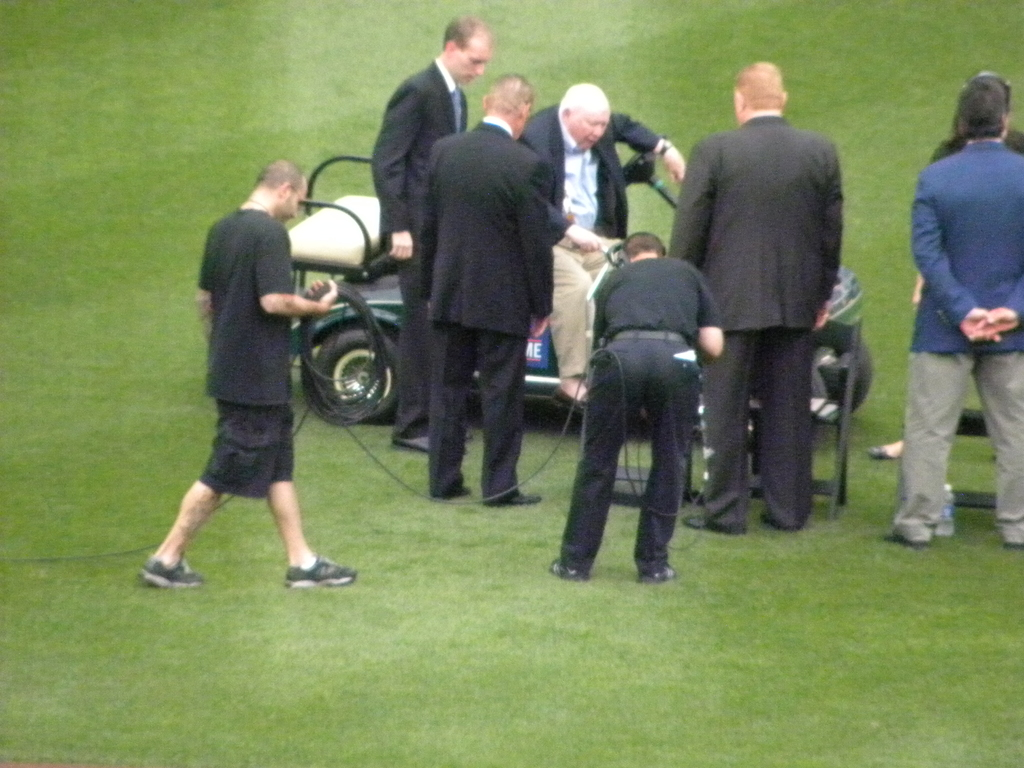Car: (282, 153, 873, 431)
